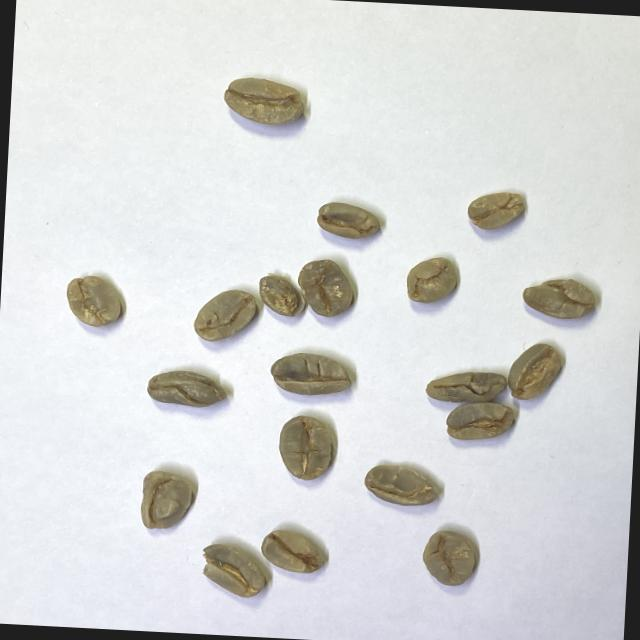bad: (272, 410, 342, 484), (219, 73, 308, 130), (196, 541, 270, 602), (268, 350, 356, 400), (294, 256, 358, 322), (190, 286, 260, 346), (136, 468, 198, 534), (143, 366, 230, 412), (418, 526, 480, 590), (504, 340, 564, 404), (422, 366, 510, 409), (520, 274, 598, 322), (444, 397, 520, 446), (64, 272, 125, 331), (362, 464, 441, 509), (258, 526, 328, 576), (403, 252, 461, 308), (464, 187, 528, 235), (314, 199, 382, 243), (256, 272, 308, 320)
